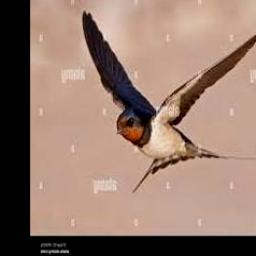Swallow: (82, 11, 256, 193)
